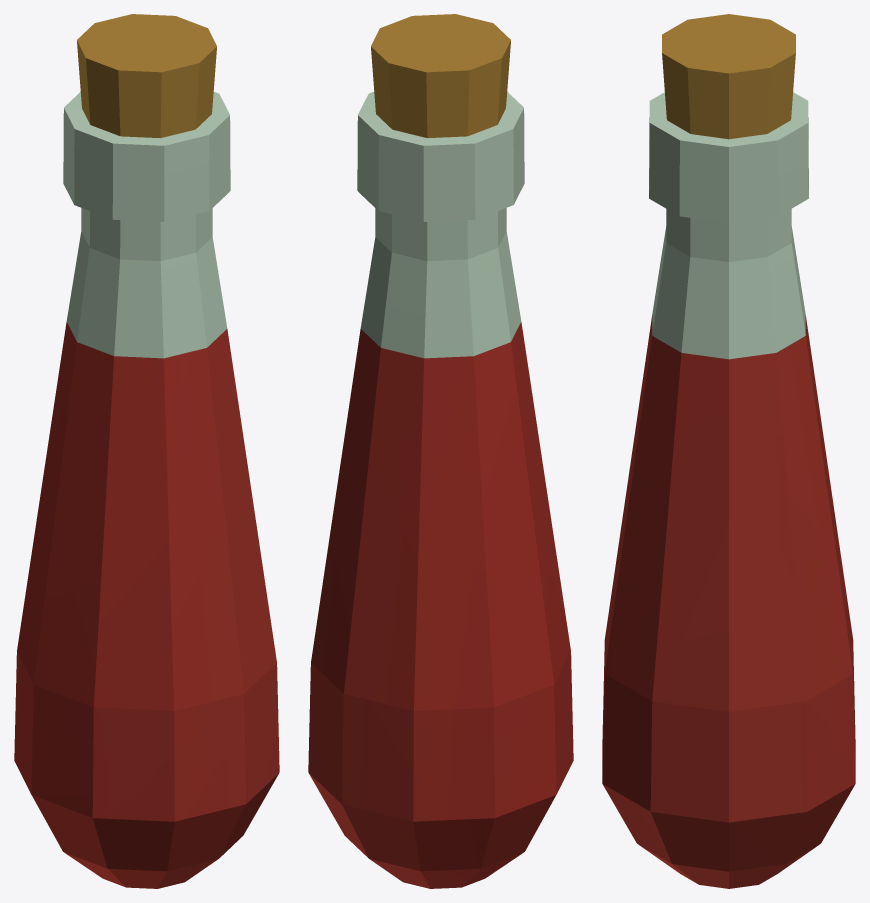
File: Potion_B.fbx
3 renders of one model, left to right at view 1: azimuth 30°, elevation 25°; view 2: azimuth 150°, elevation 25°; view 3: azimuth 270°, elevation 25°, orthographic.
Parts seen in each view (by area): view 1: Potion_B; view 2: Potion_B; view 3: Potion_B.
Boxes of the visible parts, x1,y1,x2,y2 form: Potion_B: [14, 14, 279, 888]; Potion_B: [308, 14, 573, 888]; Potion_B: [602, 14, 855, 888].
Bounding box in the file's own units: 5.98 × 20.41 × 5.69.
